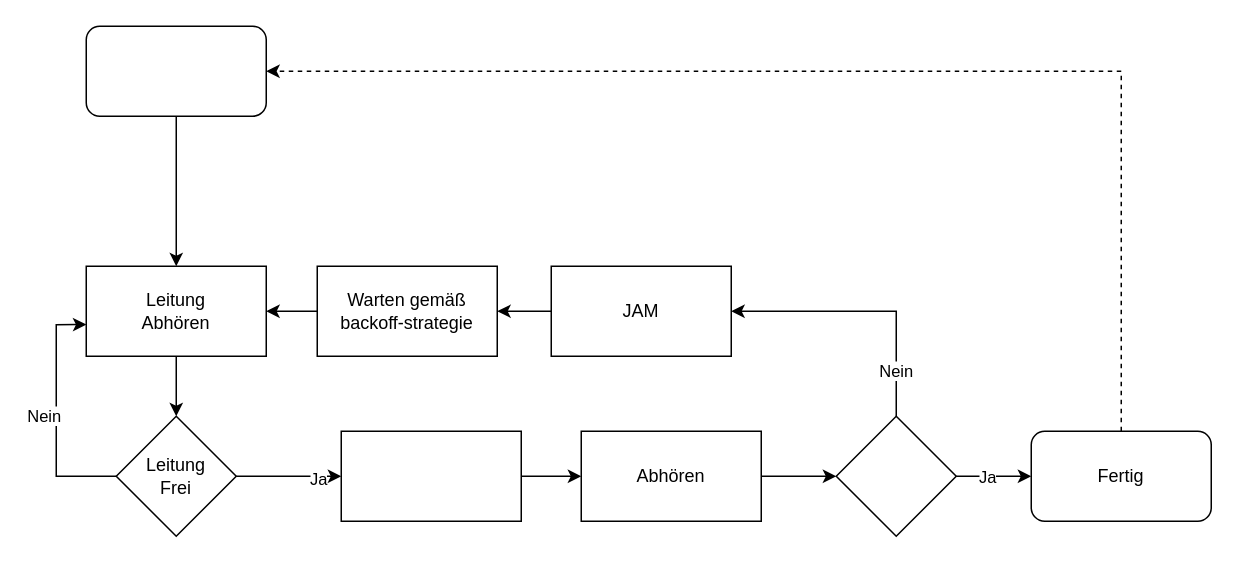
The diagram is 1238 pixels wide and 563 high, and some of its shapes have lost their labels. The shapes that lost their labels are listed below. From the top down, each one's centre as x and y in pixels, then its label:
point 175,70: Station Sendebereit
point 430,475: Senden
point 895,475: Gesendet = Empfangen
